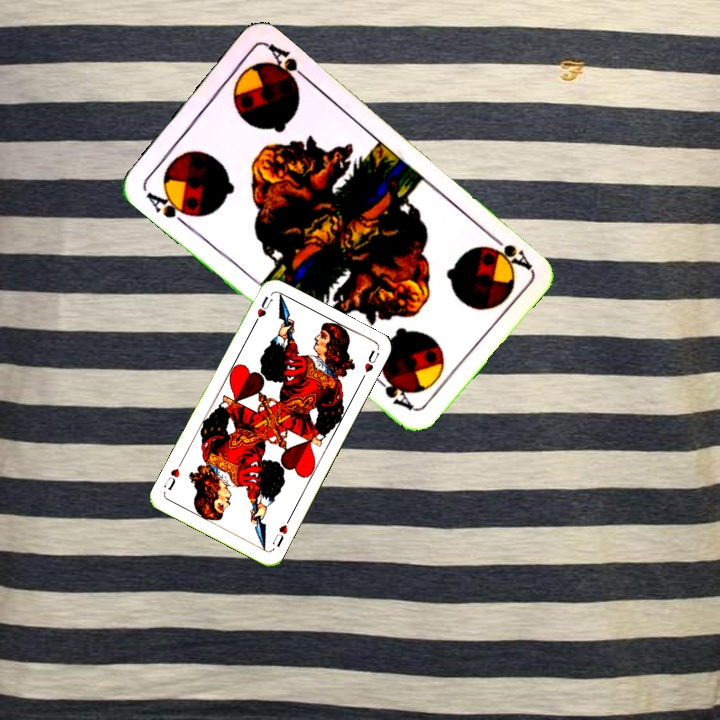HU: (249, 292, 275, 329), (268, 514, 293, 550)
SA: (141, 185, 196, 229), (480, 228, 534, 272)
